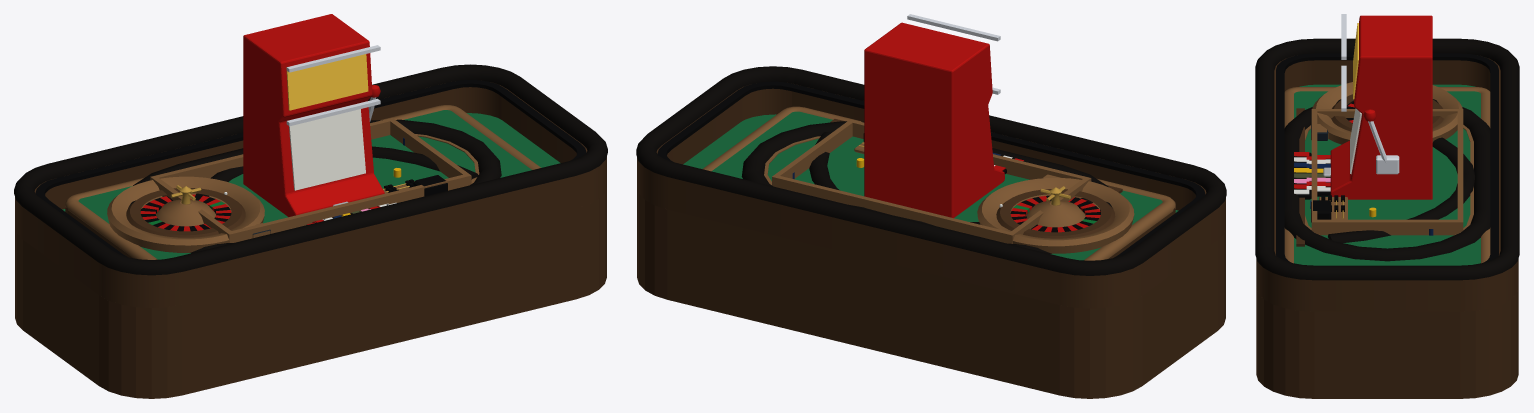
Rendered from furniture.glb.
3 renders of one model, left to right at view 1: azimuth 30°, elevation 25°; view 2: azimuth 150°, elevation 25°; view 3: azimuth 270°, elevation 25°, orthographic. The views are drawn at different scales.
Parts seen in each view (by area): view 1: craps.body, slots.body, roulette.body, dice_table.body, poker_oval.body, blackjack.body; view 2: craps.body, slots.body, roulette.body, dice_table.body, poker_oval.body, blackjack.body; view 3: craps.body, slots.body, roulette.body, poker_oval.body, dice_table.body, blackjack.body, faro.body, blackjack_wood.body.
Boxes of the visible parts, x1,y1,x2,y2 form: craps.body: [14, 64, 607, 398]; slots.body: [243, 14, 384, 216]; roulette.body: [65, 105, 540, 259]; dice_table.body: [150, 118, 471, 242]; poker_oval.body: [128, 119, 501, 253]; blackjack.body: [196, 146, 478, 234]; craps.body: [636, 66, 1226, 398]; slots.body: [864, 14, 1004, 218]; roulette.body: [702, 106, 1175, 260]; dice_table.body: [772, 119, 1091, 243]; poker_oval.body: [741, 121, 1112, 253]; blackjack.body: [809, 122, 1122, 225]; craps.body: [1255, 38, 1519, 398]; slots.body: [1330, 14, 1432, 199]; roulette.body: [1284, 82, 1490, 265]; poker_oval.body: [1284, 99, 1490, 261]; dice_table.body: [1311, 109, 1463, 235]; blackjack.body: [1296, 125, 1474, 246]; faro.body: [1319, 167, 1347, 219]; blackjack_wood.body: [1296, 108, 1328, 246].
Size of the model in its own units: 3.81 by 1.87 by 1.81.
